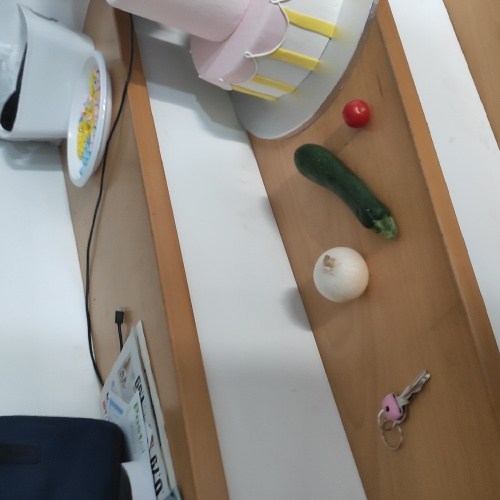cipolla: (312, 245, 375, 300)
pomodoro: (342, 99, 377, 131)
zucchine: (297, 145, 404, 237)
